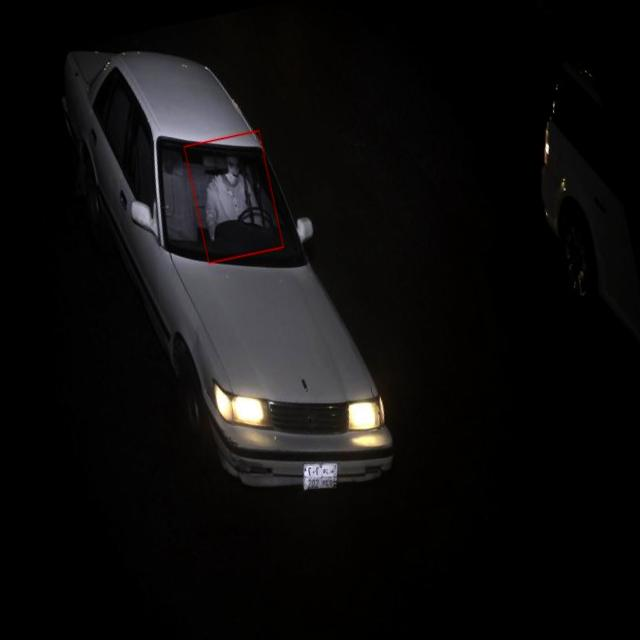person_without_seatbelt: (191, 148, 280, 251)
